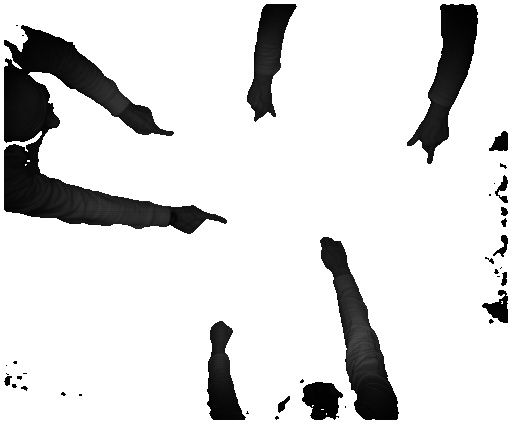fist: (208, 320, 239, 352)
hand: (400, 116, 455, 167), (174, 200, 231, 239), (240, 84, 279, 127), (125, 107, 175, 135), (320, 232, 351, 273)
